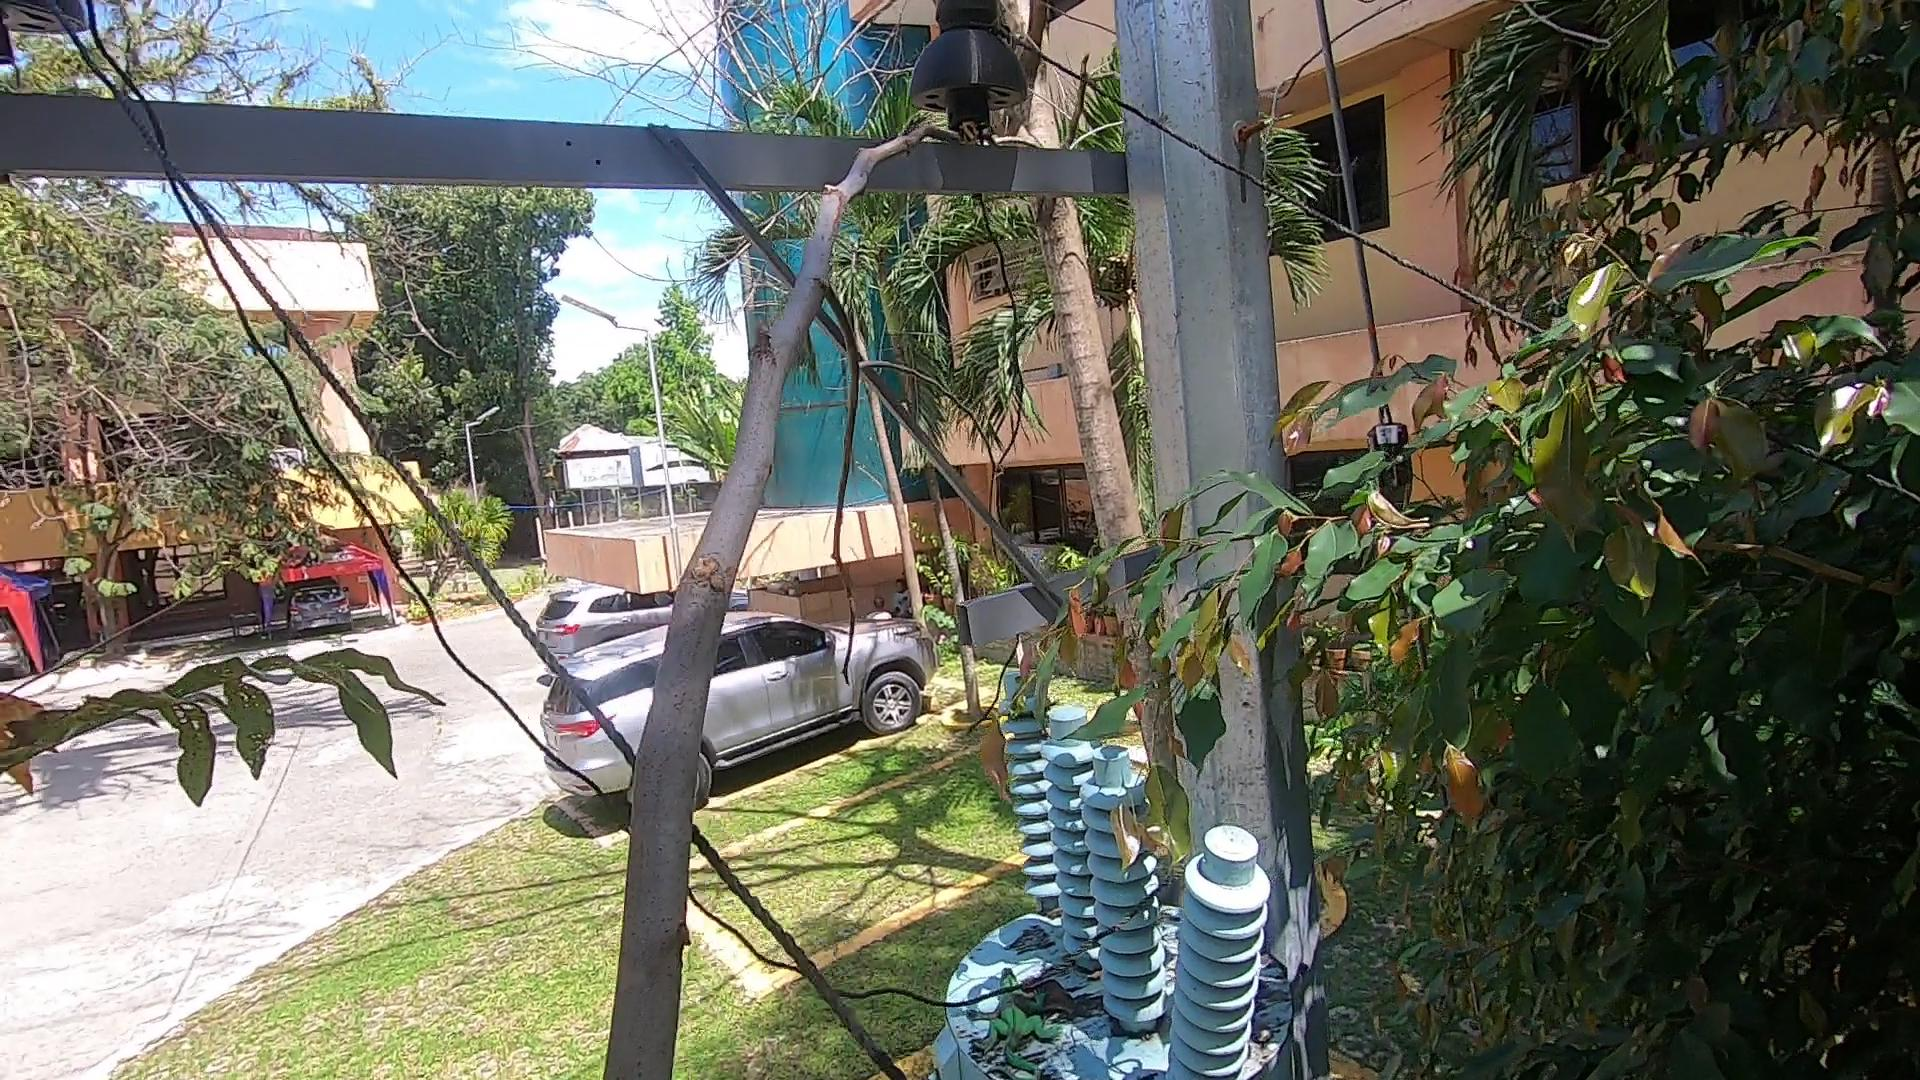branch with leaves: (971, 502, 1279, 884)
leaf: (1015, 967, 1101, 1034)
tree branch: (582, 63, 935, 1080)
